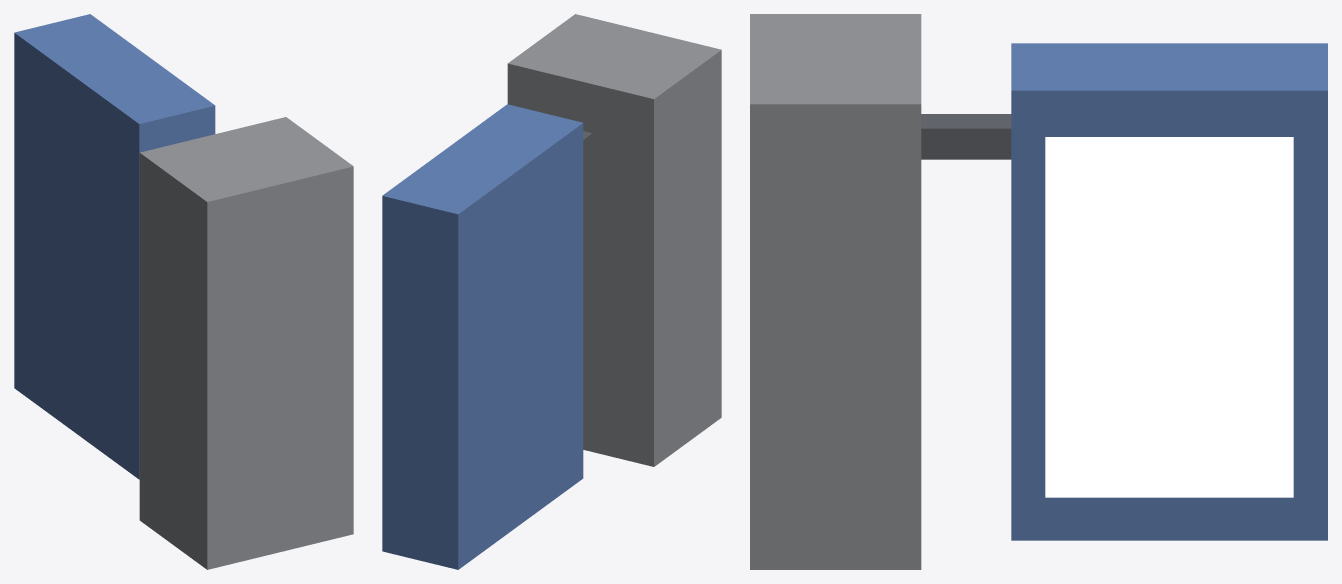
The model's file is prop_kanban_sode_box_b.glb.
The picture shows the model from 3 angles, left to right: view 1: azimuth 30°, elevation 25°; view 2: azimuth 150°, elevation 25°; view 3: azimuth 270°, elevation 25°; orthographic projection. The views are drawn at different scales.
Parts seen in each view (by area): view 1: kanban_sode_box_b; view 2: kanban_sode_box_b; view 3: kanban_sode_box_b.
Boxes of the visible parts, left/top/right/bottom form: kanban_sode_box_b: left=14, top=14, right=353, bottom=569; kanban_sode_box_b: left=382, top=14, right=721, bottom=569; kanban_sode_box_b: left=750, top=14, right=1327, bottom=569.
Size of the model in its own units: 0.5 by 1.2 by 1.35.
